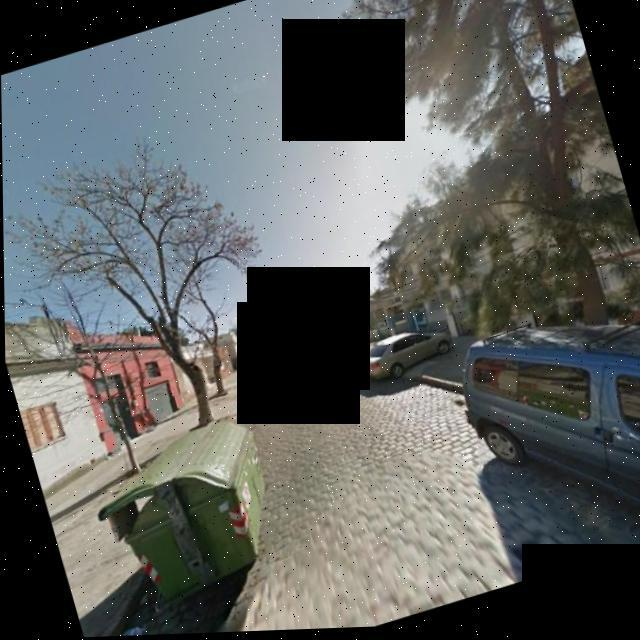bin: (69, 405, 299, 638)
